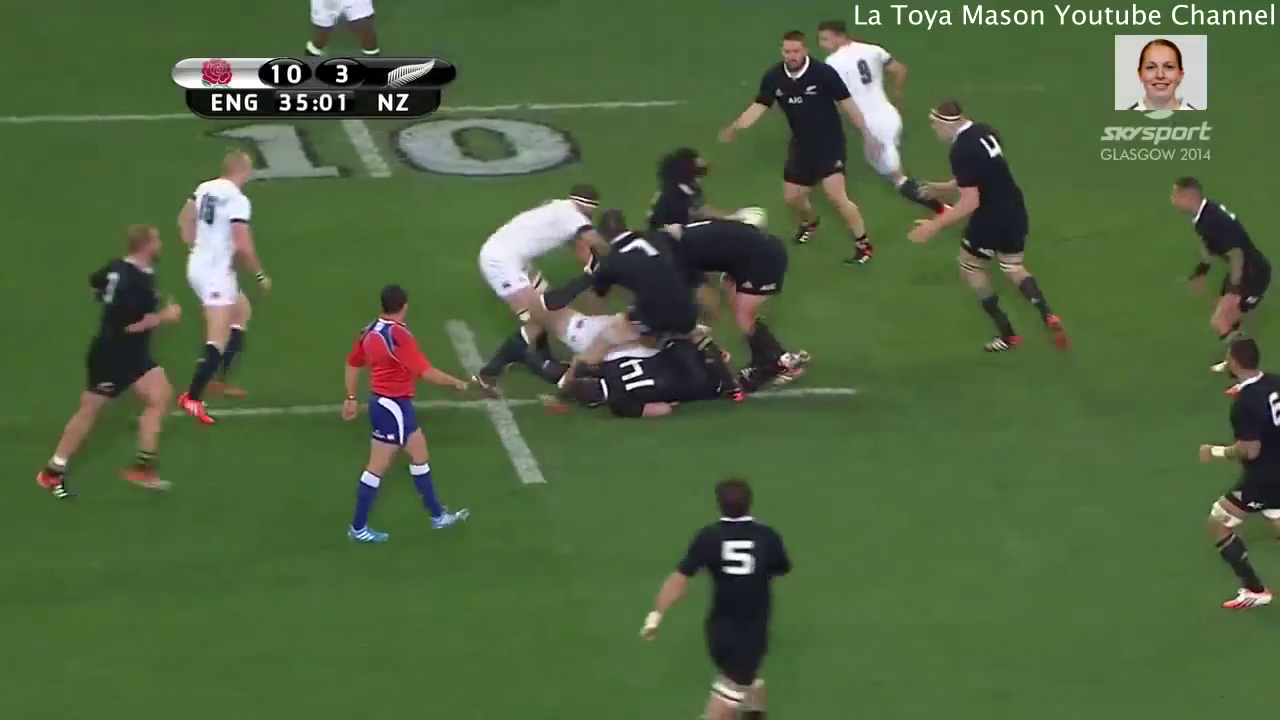10_metre: (139, 292, 885, 497), (1, 52, 697, 188)
ball: (724, 191, 777, 242)
player: (17, 206, 189, 517), (319, 274, 492, 577), (901, 87, 1082, 375), (705, 24, 896, 296), (617, 470, 821, 720), (153, 135, 290, 444), (807, 15, 966, 248), (464, 172, 608, 402), (645, 205, 817, 384), (1185, 324, 1280, 620), (533, 205, 725, 348), (1163, 171, 1280, 374), (566, 337, 791, 423), (629, 138, 737, 244)
